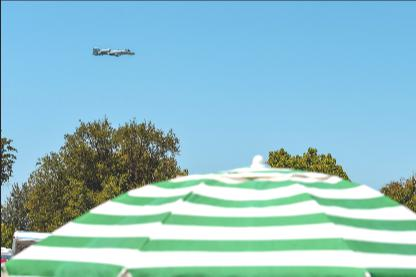A10: (92, 46, 134, 56)
